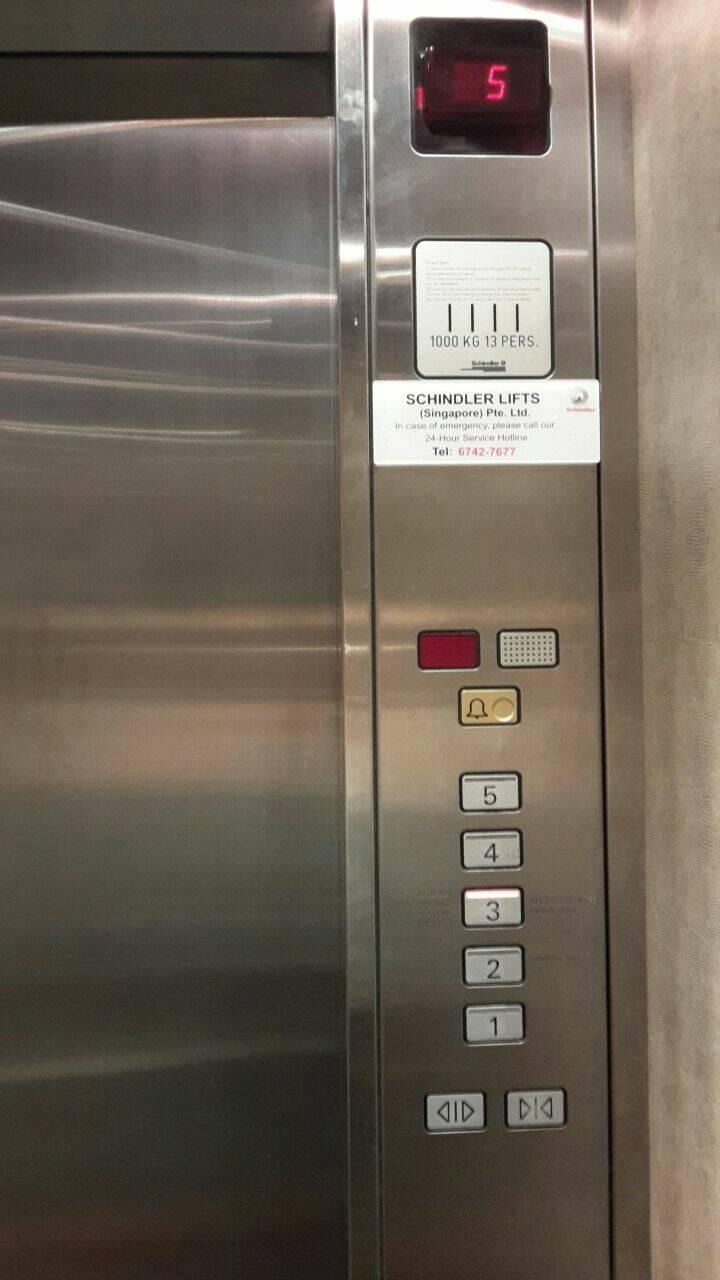1: (460, 999, 529, 1046)
2: (460, 941, 527, 989)
3: (459, 882, 526, 929)
4: (458, 824, 525, 873)
5: (456, 767, 524, 814)
alarm: (455, 683, 522, 728)
close: (501, 1083, 570, 1131)
empty: (414, 625, 482, 671)
led: (408, 16, 553, 158)
open: (422, 1087, 489, 1135)
speaker: (495, 625, 561, 670)
